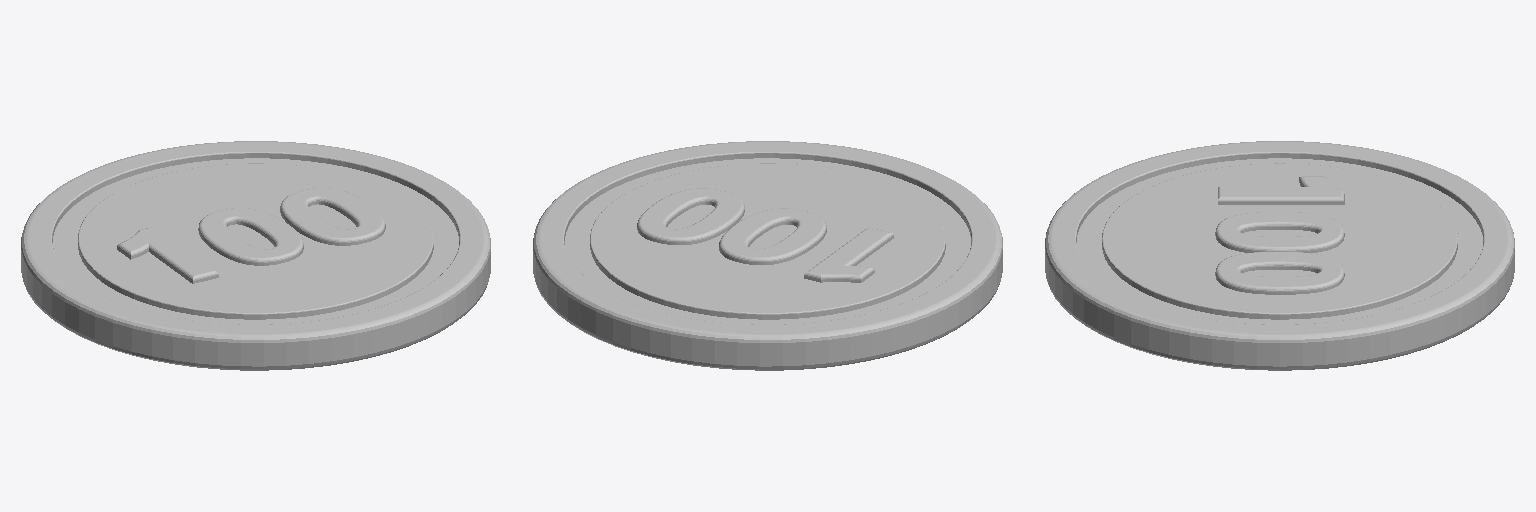
The model's file is poker_chip_100.obj.
The picture shows the model from 3 angles: view 1: azimuth 30°, elevation 25°; view 2: azimuth 150°, elevation 25°; view 3: azimuth 270°, elevation 25°; orthographic projection.
Visible parts, largest first — view 1: obj1; view 2: obj1; view 3: obj1.
Part boxes in pixels (bbox=[...]): obj1: bbox=[21, 141, 490, 370]; obj1: bbox=[533, 141, 1002, 370]; obj1: bbox=[1045, 141, 1514, 370].
Size of the model in its own units: 0.0802 by 0.0091 by 0.0802.